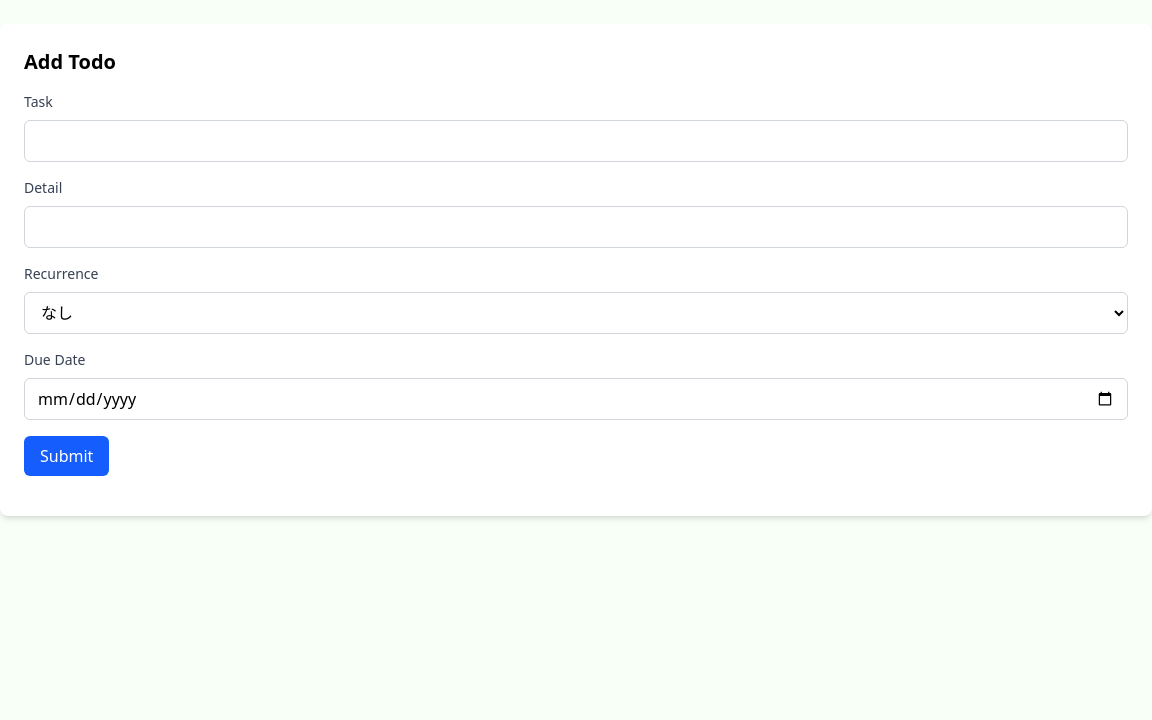
Scenario: TodoForm › サーバーのバリデーションエラーを表示する
The width and height of the screenshot is (1152, 720).
Type "タスクB" into the field labelled "Task". click: (576, 141)
box: x1=24 y1=120 x2=1128 y2=162
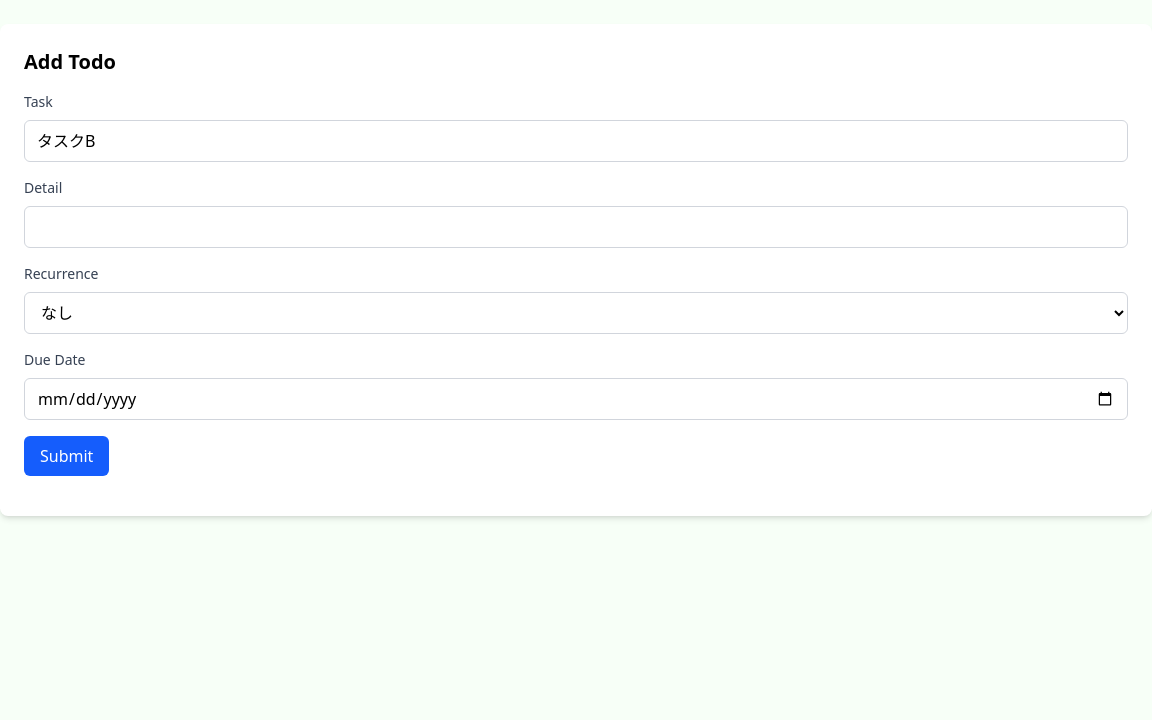
Click the button "Submit". click: (67, 456)
box: x1=24 y1=436 x2=109 y2=476
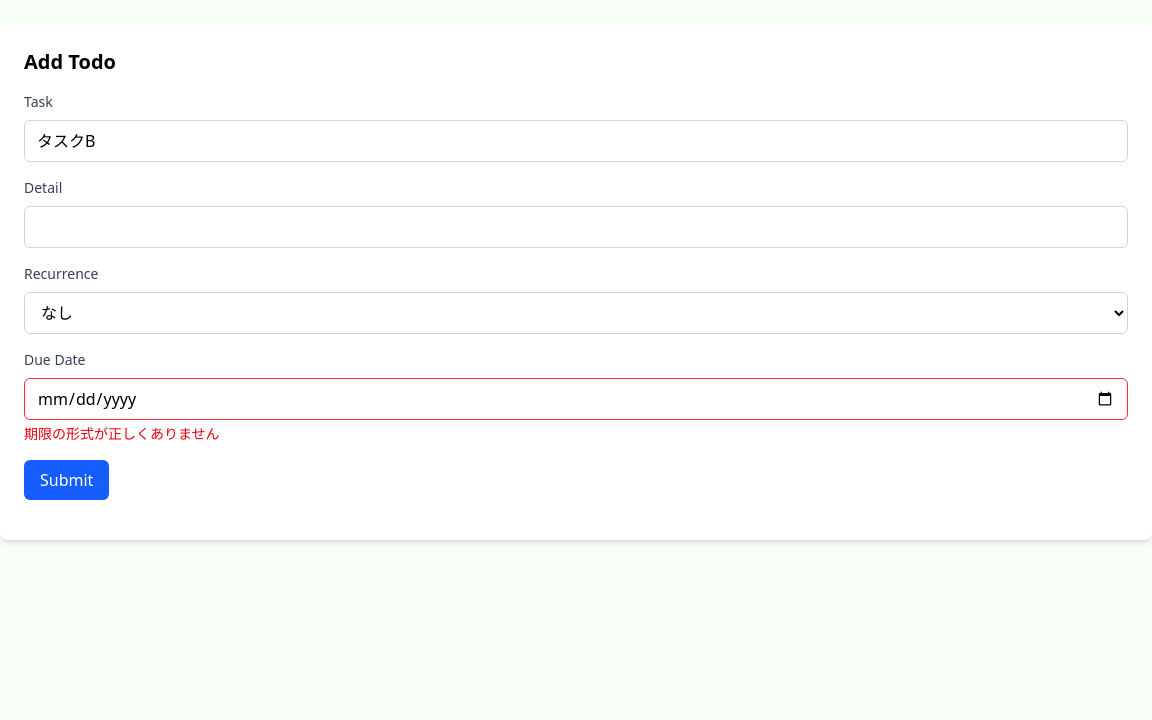
Check: the text "期限の形式が正しくありません" is shown, box x1=24 y1=424 x2=220 y2=443
